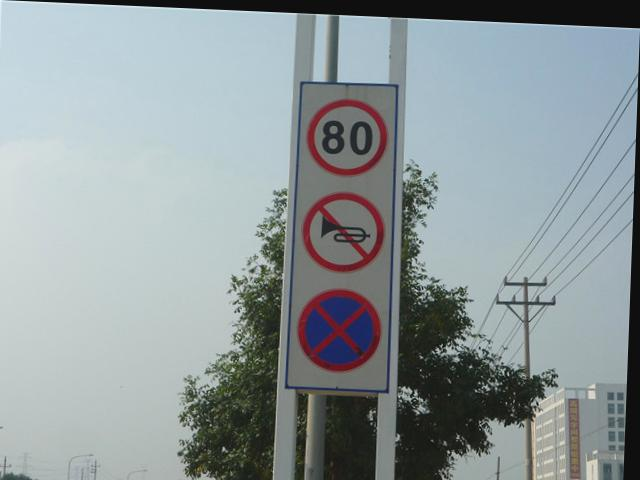limit80: (306, 89, 391, 174)
